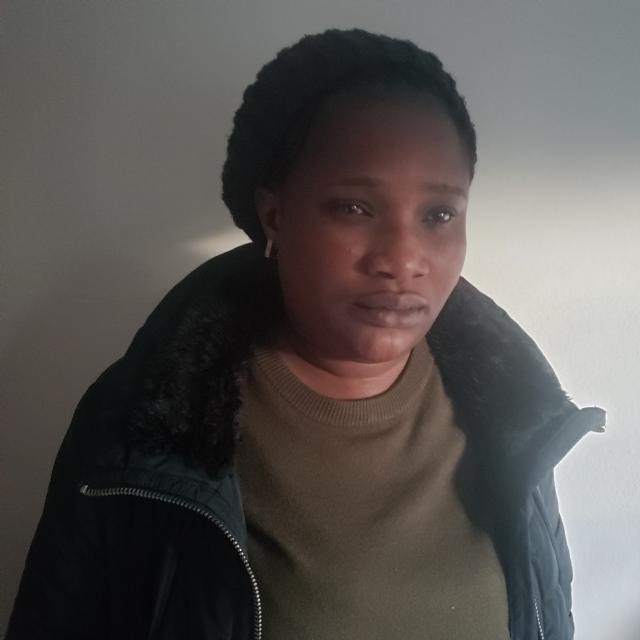sad: (250, 34, 489, 356)
